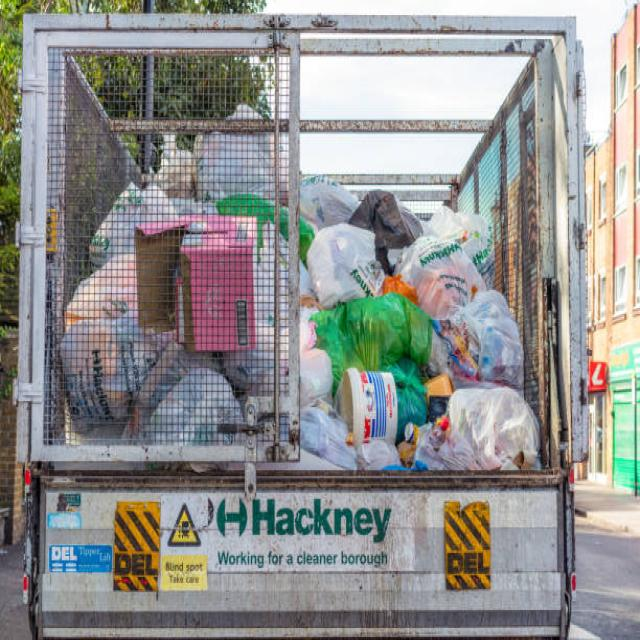trash: (83, 130, 524, 460)
